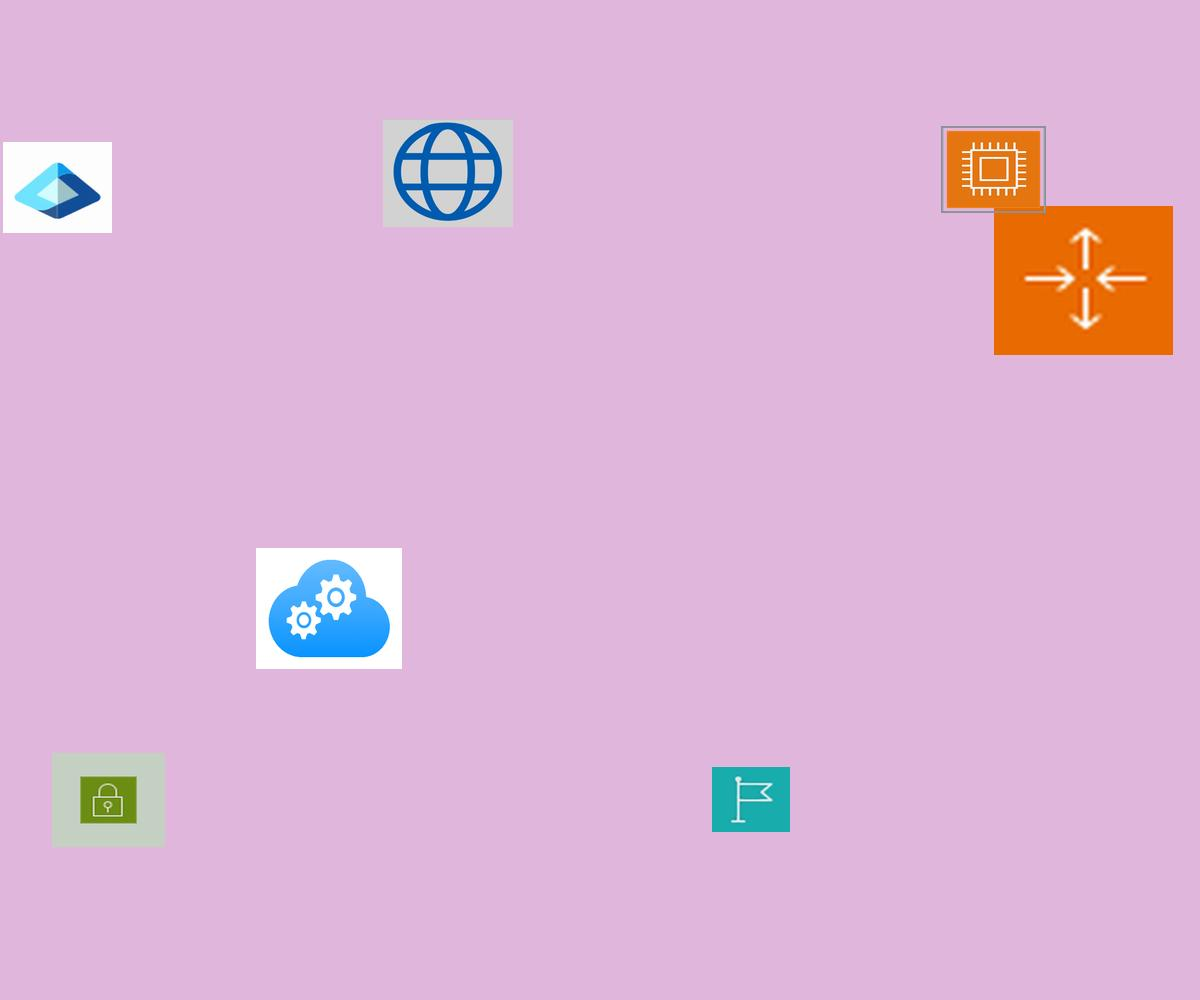AWS-Category_Compute: (941, 126, 1046, 213)
AWS-Public-subnet: (52, 753, 165, 847)
AWS-Region: (712, 767, 790, 832)
AWS-Scaling-group: (994, 206, 1173, 355)
Azure_cloud_services: (256, 548, 402, 669)
Azure_http: (383, 119, 513, 227)
Azure_microsoft_entra: (3, 142, 112, 233)
